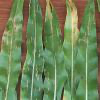Corn leaf blight: (20, 0, 44, 100), (0, 0, 22, 100), (45, 0, 64, 99), (63, 1, 81, 100), (79, 1, 97, 99)
